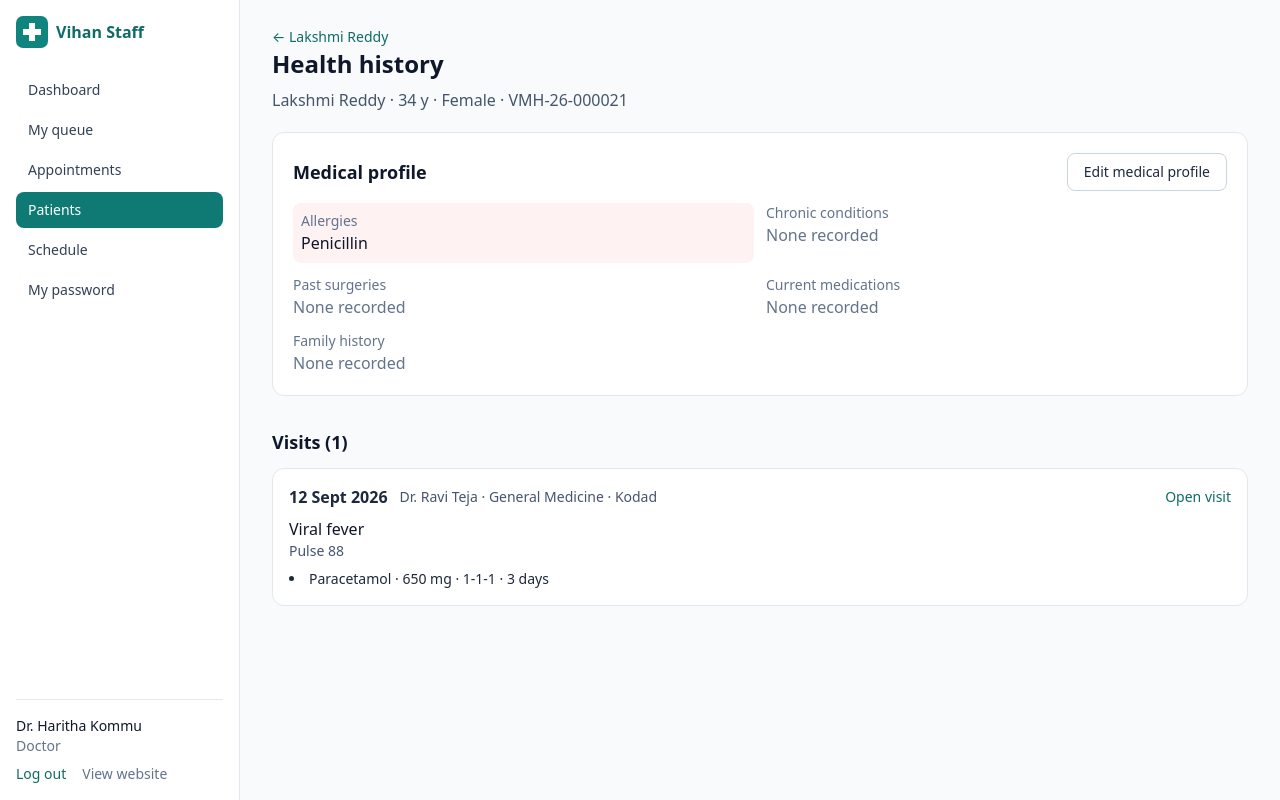
it: Health history › shows the medical profile and past visits, and edits the profile
This screenshot has width=1280, height=800.
Expected: the text "Viral fever" is shown, [289,518,364,540]
Expected: the text "Pulse 88" is shown, [289,541,344,560]
Click the button "Edit medical profile" at (1147, 172), box [1067,153,1227,191]
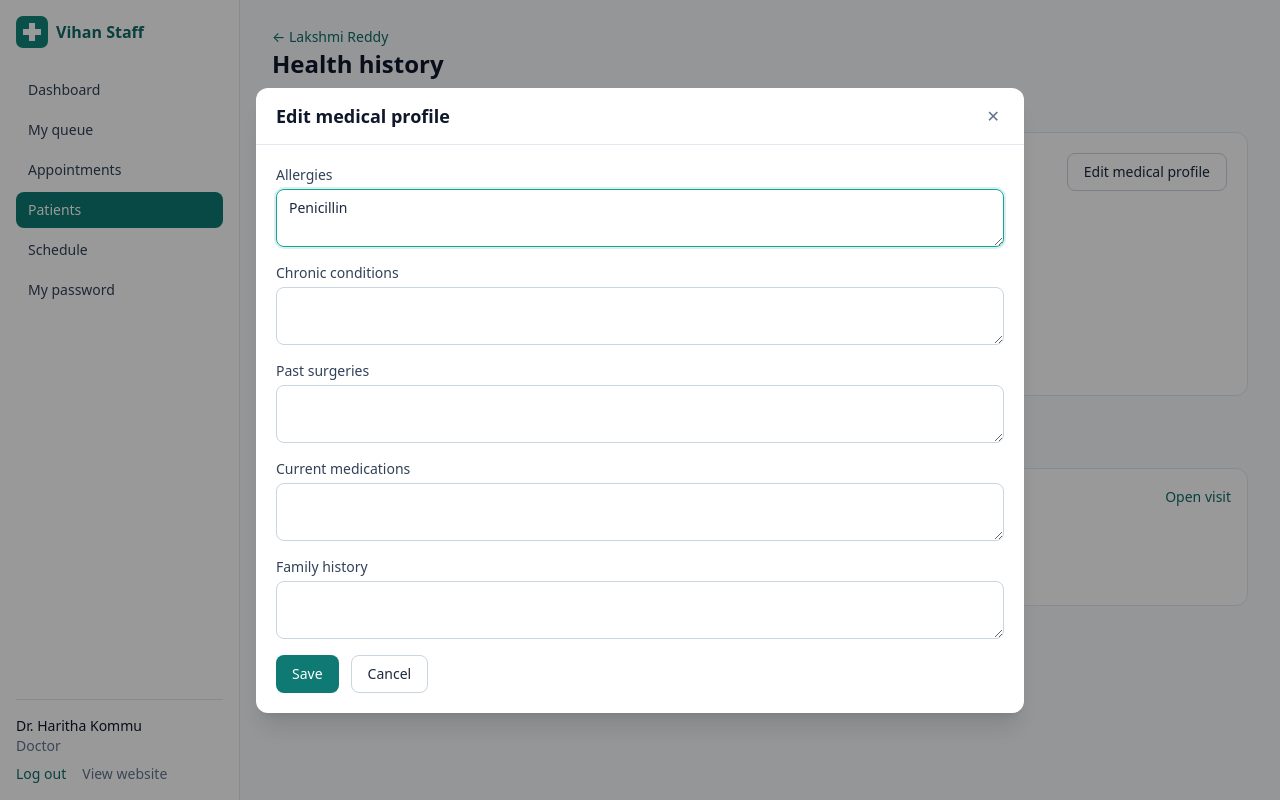
Type "Asthma" into the text box labelled "Chronic conditions" at (640, 316), box [276,286,1004,344]
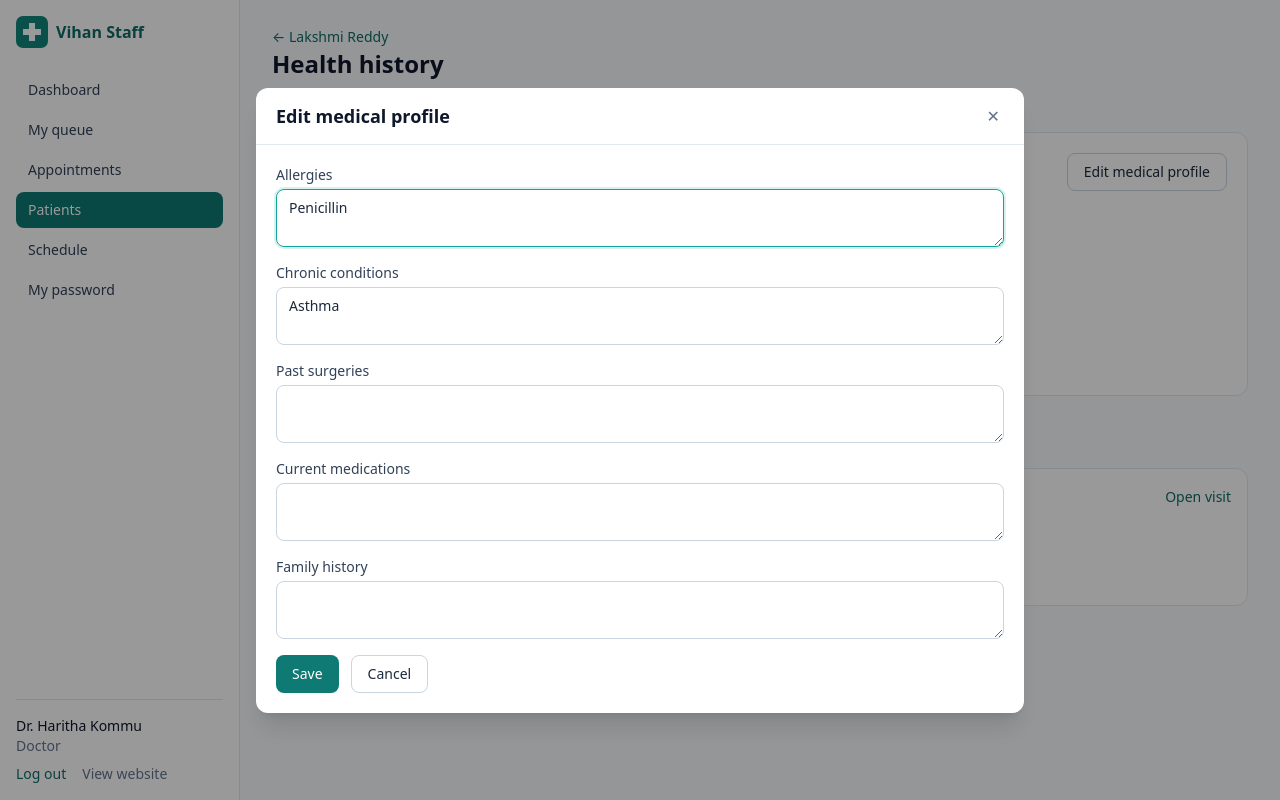
Click the button "Save" at (307, 674), box [276,654,339,692]
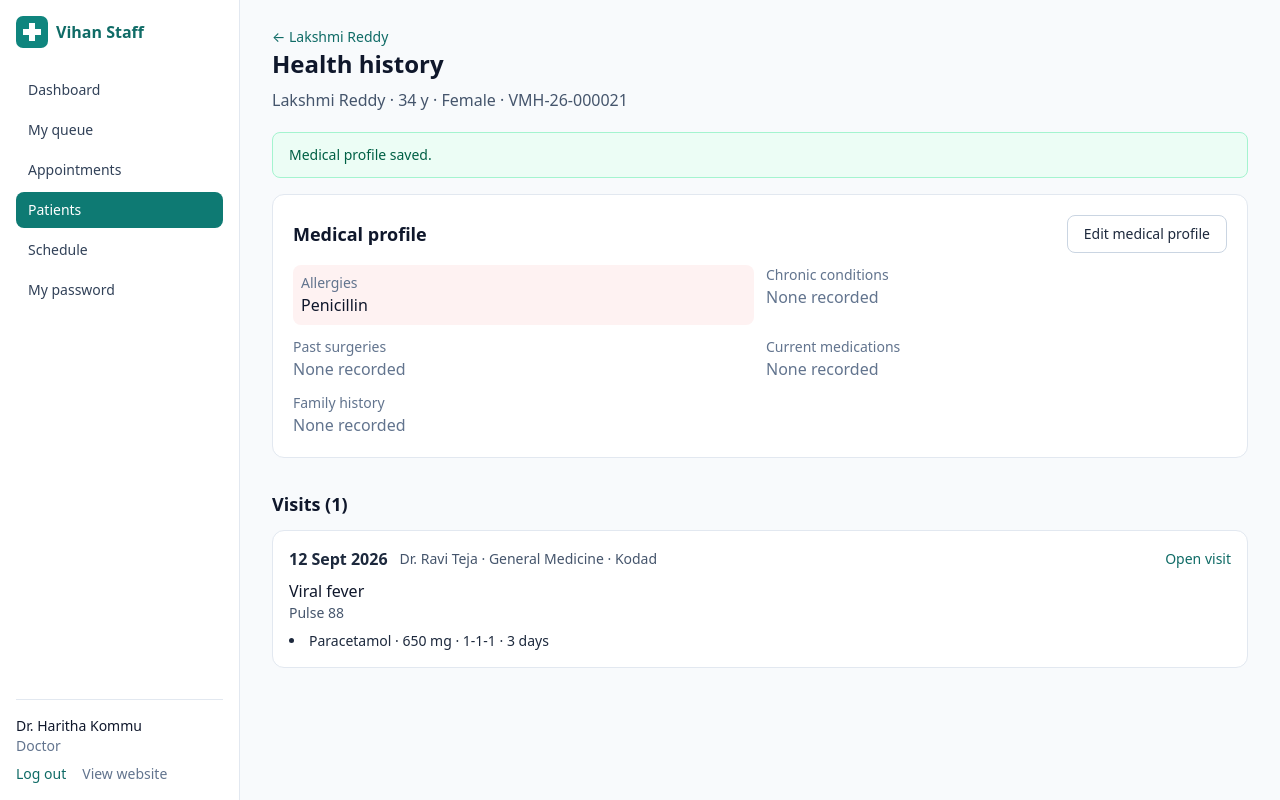
Expected: the text "Medical profile saved." is shown, [272,132,1248,178]
